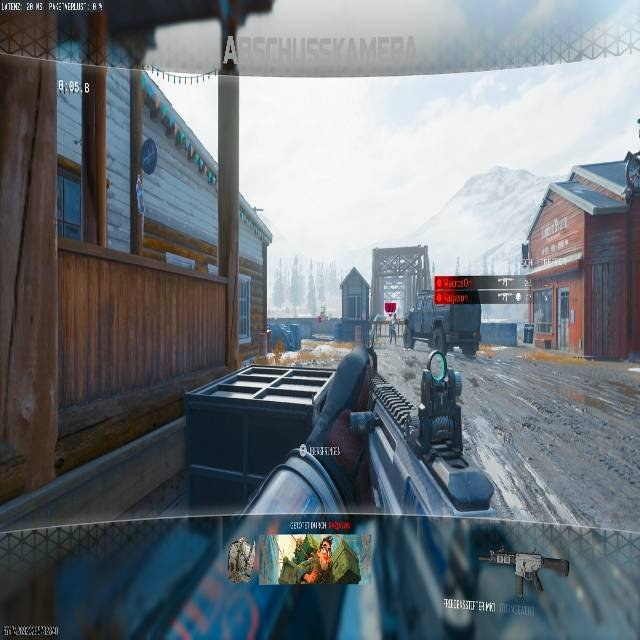player: (388, 315, 398, 344)
